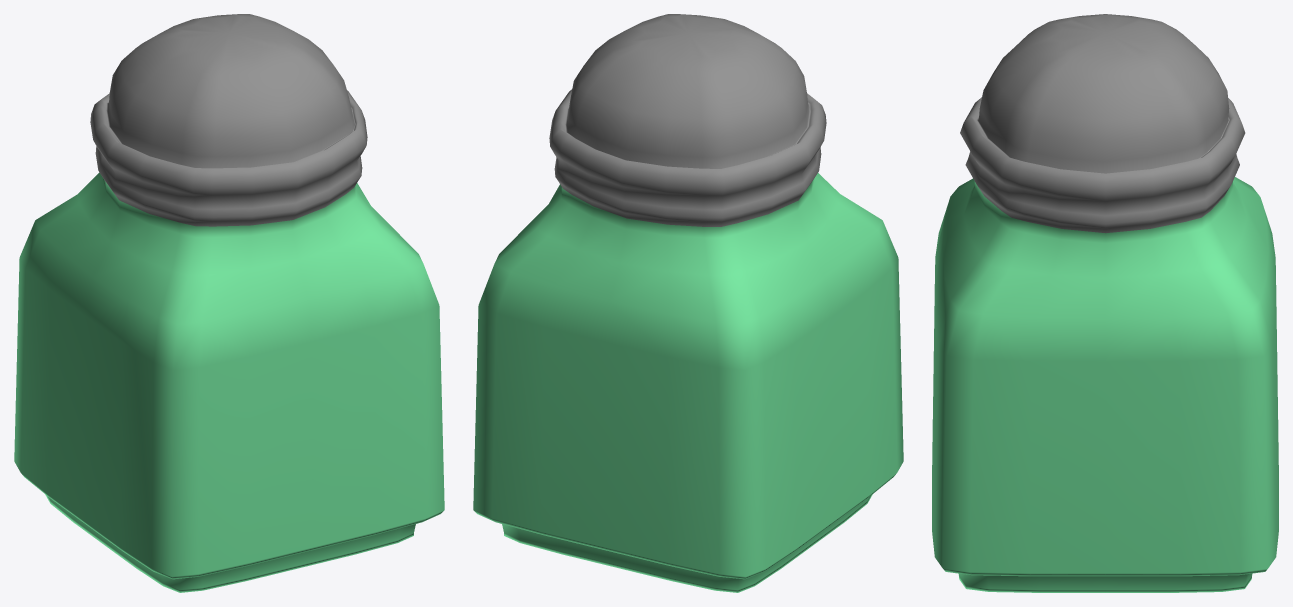
File: pepper.fbx
3 views of the same model, side by side, from view 1: azimuth 30°, elevation 25°; view 2: azimuth 150°, elevation 25°; view 3: azimuth 270°, elevation 25° (orthographic). The views are drawn at different scales.
Parts seen in each view (by area): view 1: pCube2; view 2: pCube2; view 3: pCube2.
Part boxes in pixels (x1,y1,x2,y2): pCube2: [14, 14, 444, 592]; pCube2: [473, 14, 903, 592]; pCube2: [932, 14, 1278, 592].
Bounding box in the file's own units: 5.01 × 7.93 × 5.01.
